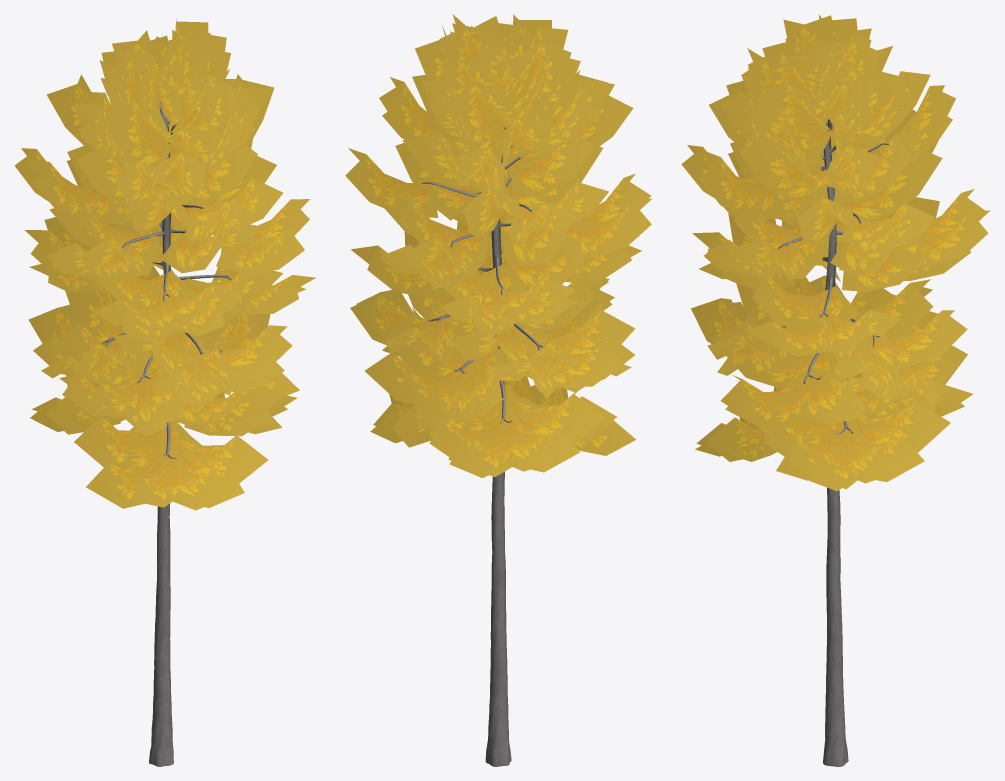
File: Tree_LOD1.fbx
3 renders of one model, left to right at view 1: azimuth 30°, elevation 25°; view 2: azimuth 150°, elevation 25°; view 3: azimuth 270°, elevation 25°, orthographic.
Visible parts, largest first — view 1: leaves_1, bark_base_0; view 2: leaves_1, bark_base_0; view 3: leaves_1, bark_base_0.
Part boxes in pixels (x1,y1,x2,y2): leaves_1: [14, 18, 315, 510]; bark_base_0: [95, 101, 231, 766]; leaves_1: [345, 14, 652, 477]; bark_base_0: [421, 127, 543, 766]; leaves_1: [681, 14, 990, 491]; bark_base_0: [778, 119, 888, 766].
Bounding box in the file's own units: 451 × 1189 × 455.
